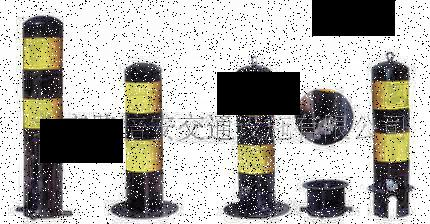bench: (16, 11, 68, 211), (228, 49, 283, 216), (120, 60, 175, 214)
